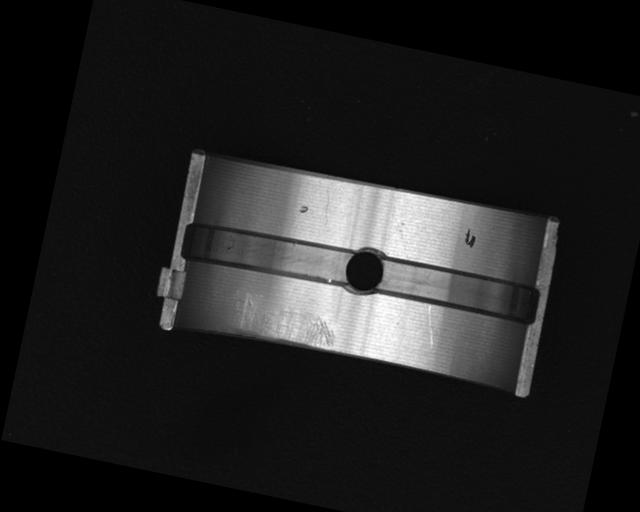blot: (461, 227, 477, 250)
bruise: (297, 203, 309, 214)
gap: (179, 215, 358, 294), (372, 253, 545, 328)
hole: (340, 243, 389, 302)
nick: (420, 304, 442, 350), (320, 190, 333, 225)
scratch: (227, 290, 342, 355)
